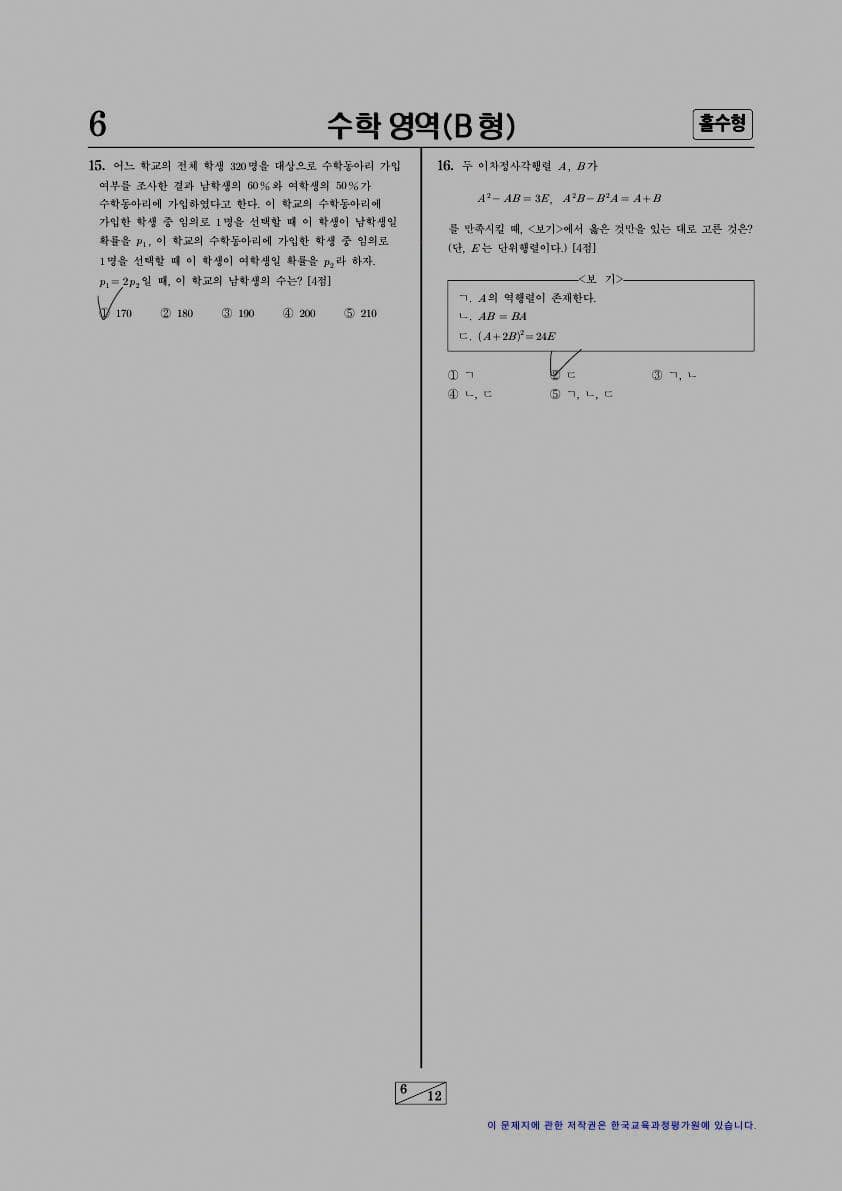question: (428, 151, 767, 413), (81, 152, 414, 337)
